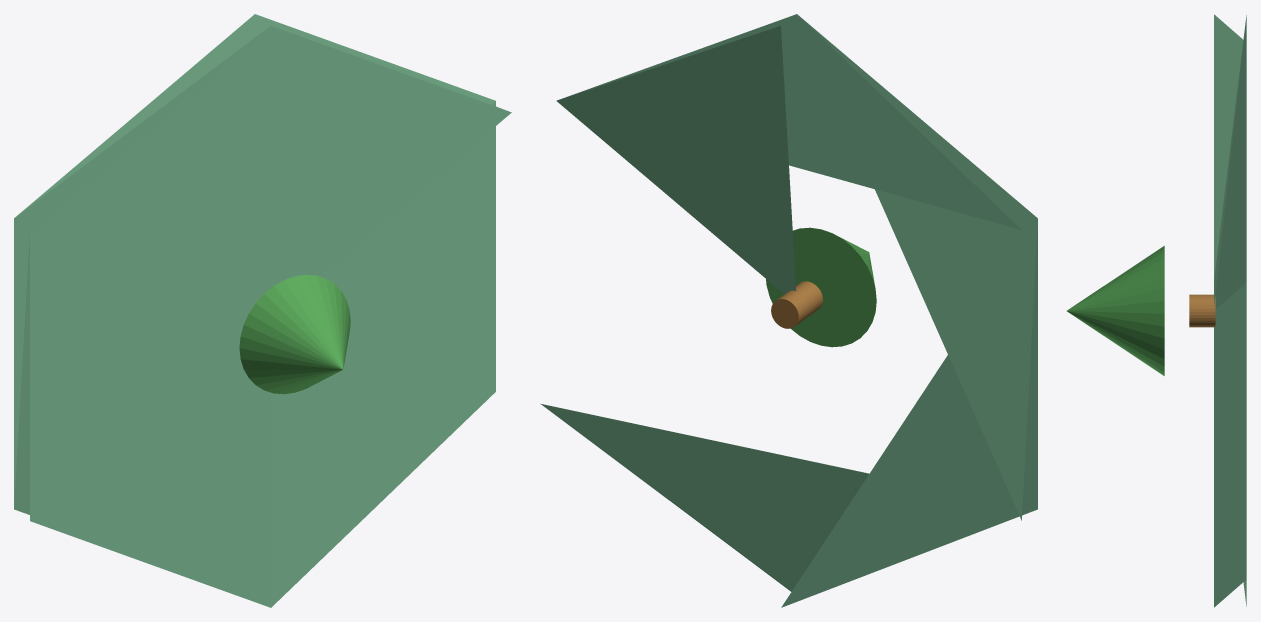
Rendered from hex_forest.glb.
3 renders of one model, left to right at view 1: azimuth 30°, elevation 25°; view 2: azimuth 150°, elevation 25°; view 3: azimuth 270°, elevation 25°, orthographic. The views are drawn at different scales.
Parts seen in each view (by area): view 1: base, leaves; view 2: base, leaves, trunk; view 3: base, leaves, trunk.
Boxes of the visible parts, x1=… form: base: x1=14, y1=14, x2=511, y2=607; leaves: x1=239, y1=274, x2=350, y2=394; base: x1=540, y1=14, x2=1037, y2=607; leaves: x1=766, y1=227, x2=876, y2=347; trunk: x1=771, y1=281, x2=822, y2=328; base: x1=1214, y1=14, x2=1246, y2=607; leaves: x1=1067, y1=246, x2=1164, y2=375; trunk: x1=1189, y1=294, x2=1215, y2=327.
Size of the model in its own units: 3.46 by 4 by 1.1.
